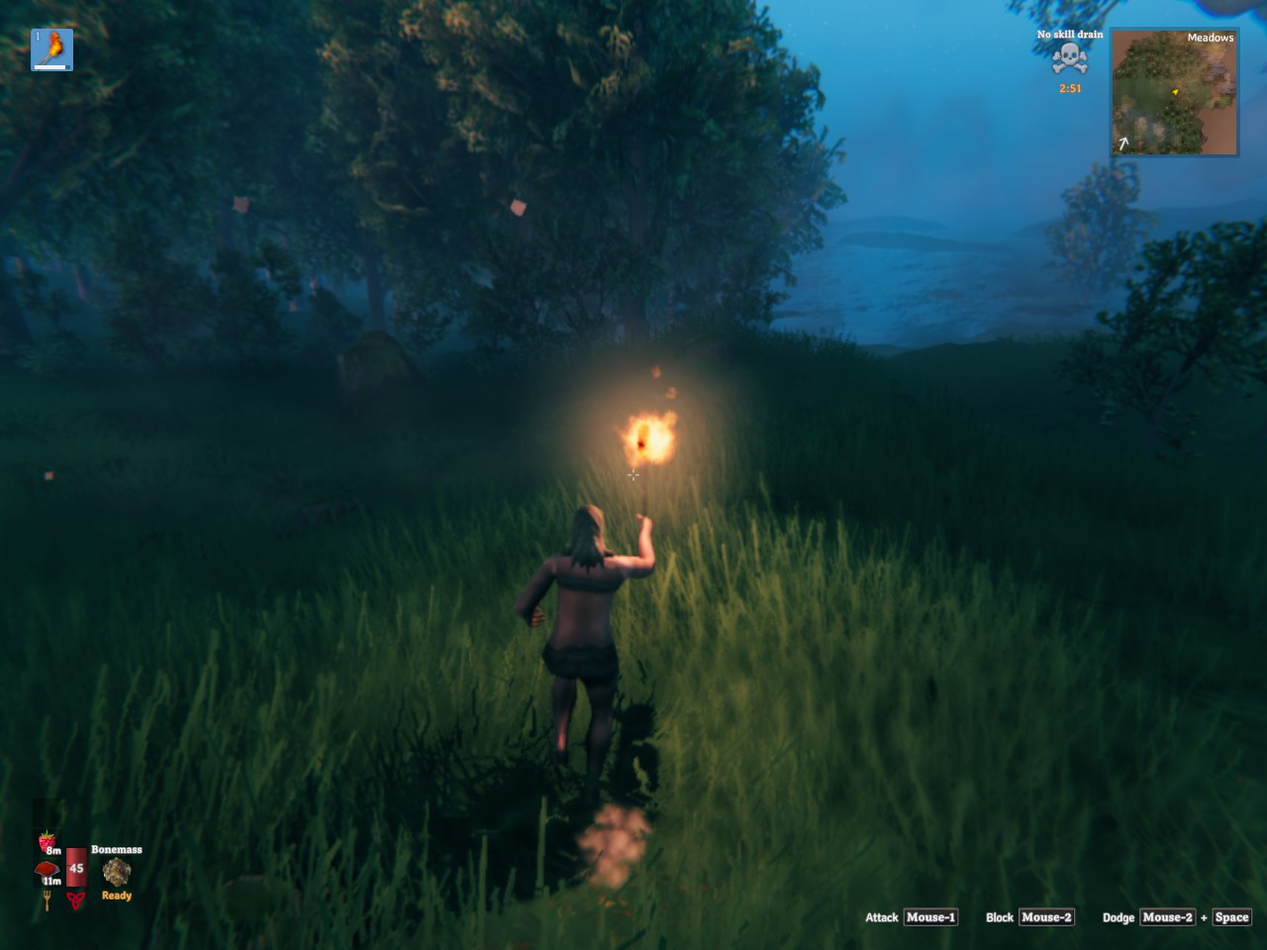Torch: (617, 411, 676, 481), (641, 480, 648, 515)
